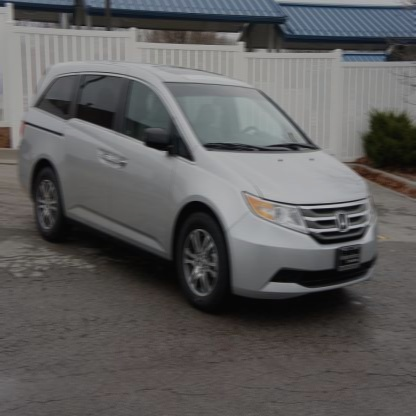Vehicle: (16, 60, 378, 314)
